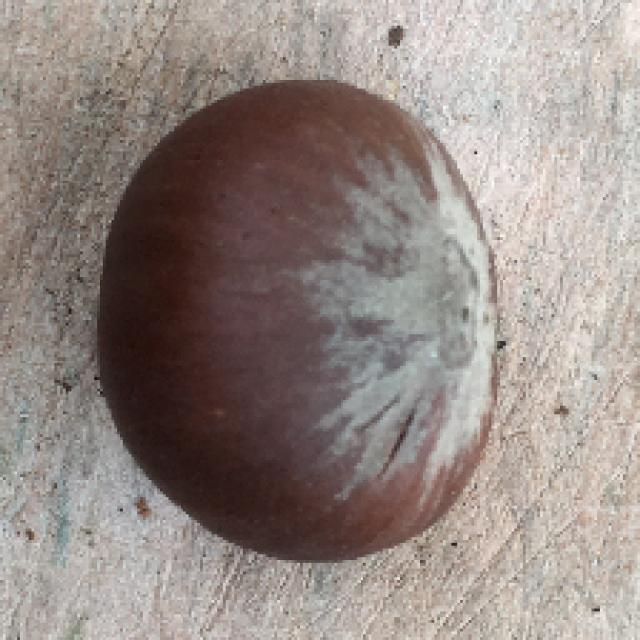qualityHazelnut: (86, 73, 508, 578)
